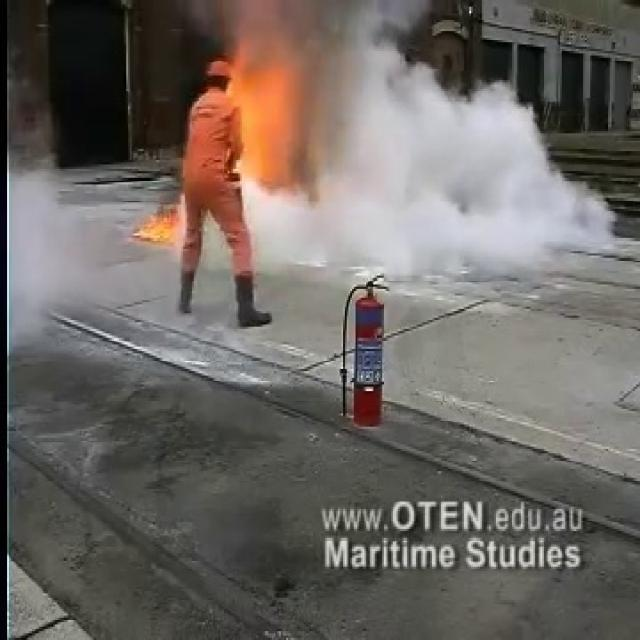Fire: (222, 44, 308, 194), (132, 194, 186, 248)
Smoke: (177, 0, 600, 276)
